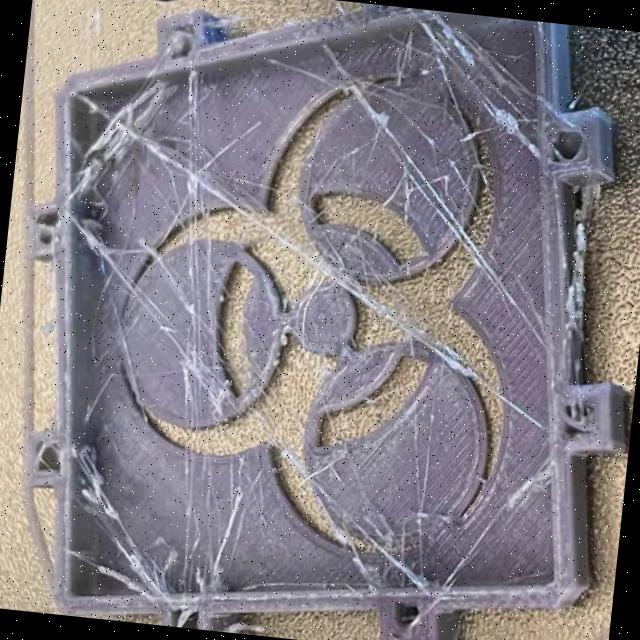stringing: (74, 85, 550, 446), (303, 40, 551, 360), (400, 11, 542, 170), (177, 65, 235, 396), (67, 198, 190, 332), (67, 66, 164, 209), (350, 524, 432, 587), (89, 527, 170, 589), (69, 443, 119, 524)
